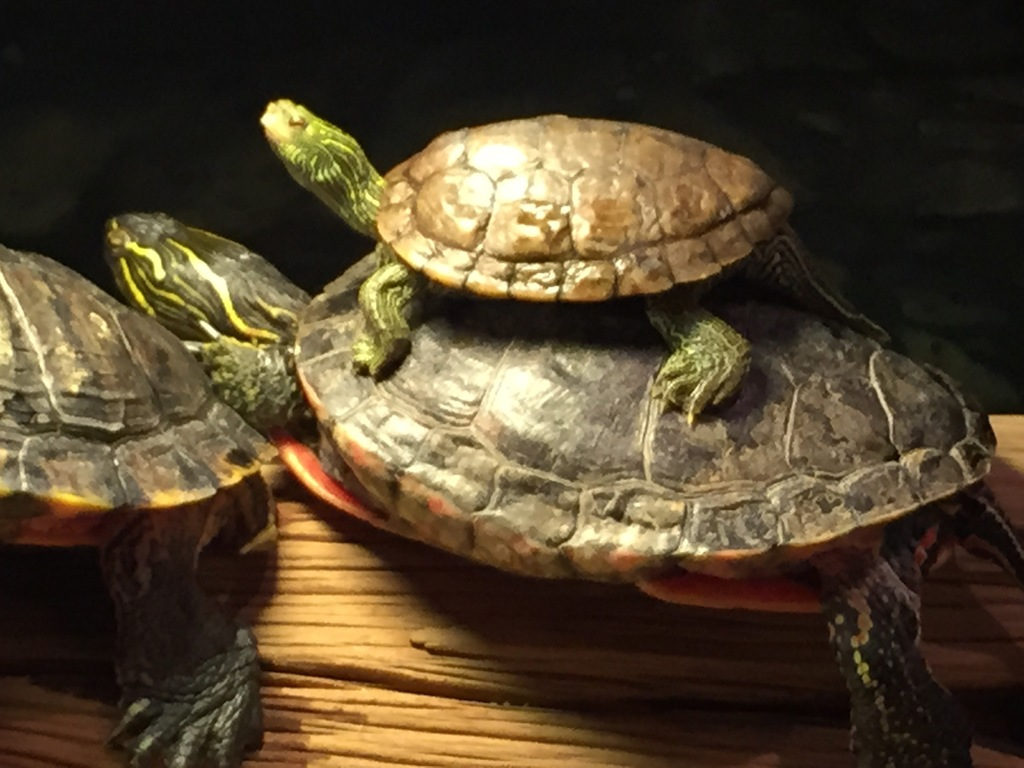Sea turtles: (105, 203, 1023, 767), (256, 94, 884, 430), (0, 239, 290, 767)
